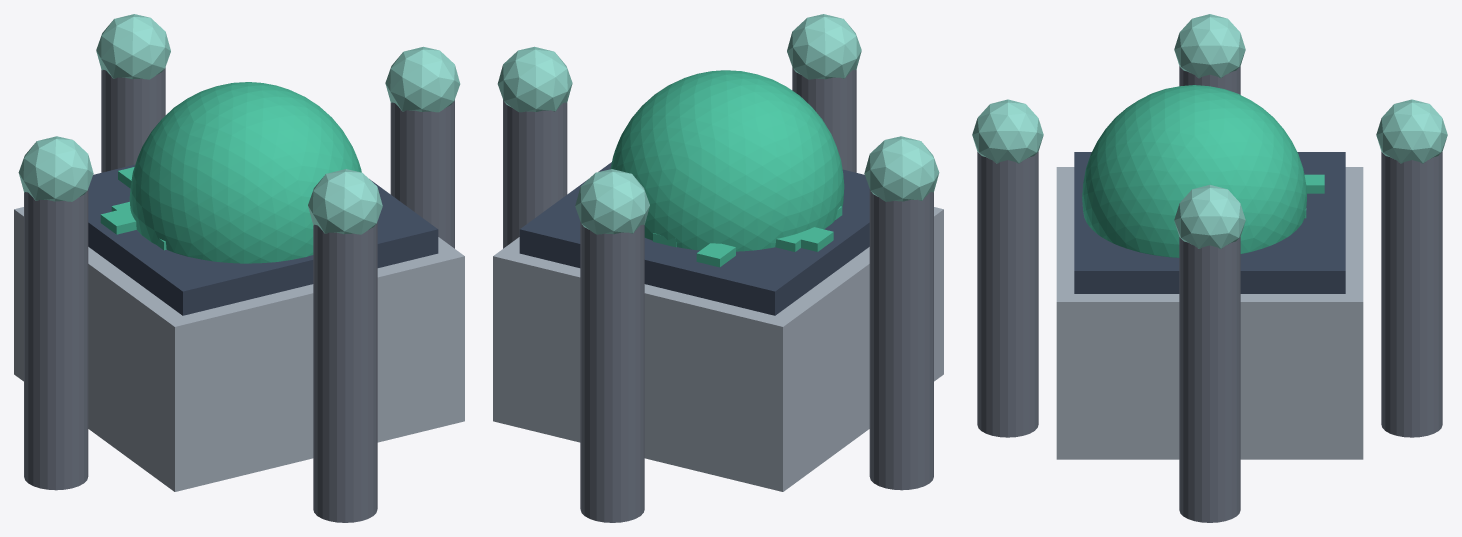
The model's file is aux-ore.glb.
3 renders of one model, left to right at view 1: azimuth 30°, elevation 25°; view 2: azimuth 150°, elevation 25°; view 3: azimuth 270°, elevation 25°, orthographic. The views are drawn at different scales.
Parts seen in each view (by area): view 1: part000, part002, part006, part008, part001, part004, part010, part005, part007, part011, part009, part017; view 2: part000, part002, part010, part008, part001, part004, part005, part011, part007, part009, part006, part019 (+1 smaller); view 3: part000, part002, part006, part010, part004, part001, part007, part011, part009, part005, part008.
Boxes of the visible parts, box(x1,y1,x2,y2) form: part000: box(14, 207, 464, 491); part002: box(129, 82, 361, 263); part006: box(313, 221, 377, 522); part008: box(24, 189, 88, 490); part001: box(88, 164, 438, 315); part004: box(390, 100, 454, 248); part010: box(101, 67, 165, 172); part005: box(385, 46, 460, 112); part007: box(308, 169, 382, 234); part011: box(96, 14, 170, 79); part009: box(18, 136, 93, 201); part017: box(100, 210, 136, 234); part000: box(493, 207, 943, 491); part002: box(610, 70, 844, 251); part010: box(580, 221, 644, 522); part008: box(869, 189, 933, 490); part001: box(519, 162, 869, 315); part004: box(503, 100, 567, 248); part005: box(497, 46, 572, 112); part011: box(575, 169, 649, 234); part007: box(787, 14, 861, 79); part009: box(864, 136, 939, 201); part006: box(792, 67, 856, 172); part019: box(696, 243, 735, 267); part000: box(1056, 167, 1363, 459); part002: box(1082, 85, 1306, 257); part006: box(977, 151, 1038, 437); part010: box(1381, 151, 1442, 437); part004: box(1179, 237, 1240, 522); part001: box(1074, 152, 1345, 293); part007: box(972, 99, 1043, 163); part011: box(1376, 99, 1447, 163); part009: box(1174, 14, 1245, 78); part005: box(1174, 185, 1245, 248); part008: box(1179, 66, 1240, 94).
Bounding box in the file's own units: 1.86 × 1.42 × 1.86.
